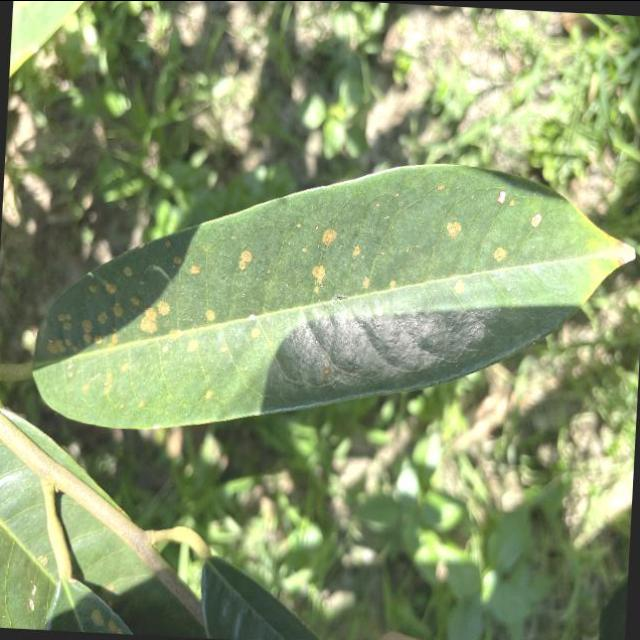Algal Leaf Spot: (16, 130, 640, 463)
